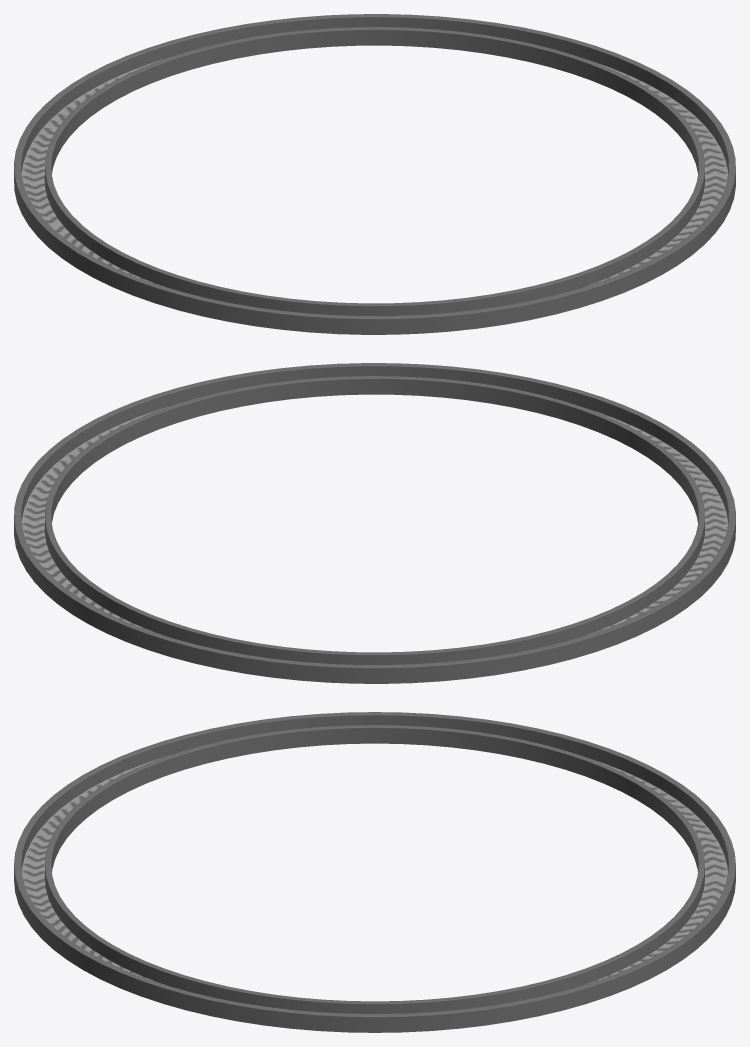
Rendered from cricle.fbx.
The picture shows the model from 3 angles, top to bottom: view 1: azimuth 30°, elevation 25°; view 2: azimuth 150°, elevation 25°; view 3: azimuth 270°, elevation 25°; orthographic projection.
Visible parts, largest first — view 1: CRICLE; view 2: CRICLE; view 3: CRICLE.
Part boxes in pixels (left/top/right/bottom): CRICLE: left=14, top=14, right=735, bottom=334; CRICLE: left=14, top=363, right=735, bottom=683; CRICLE: left=14, top=712, right=735, bottom=1032.
Size of the model in its own units: 8420 by 206 by 8420.
2 materials, 1 textured.
